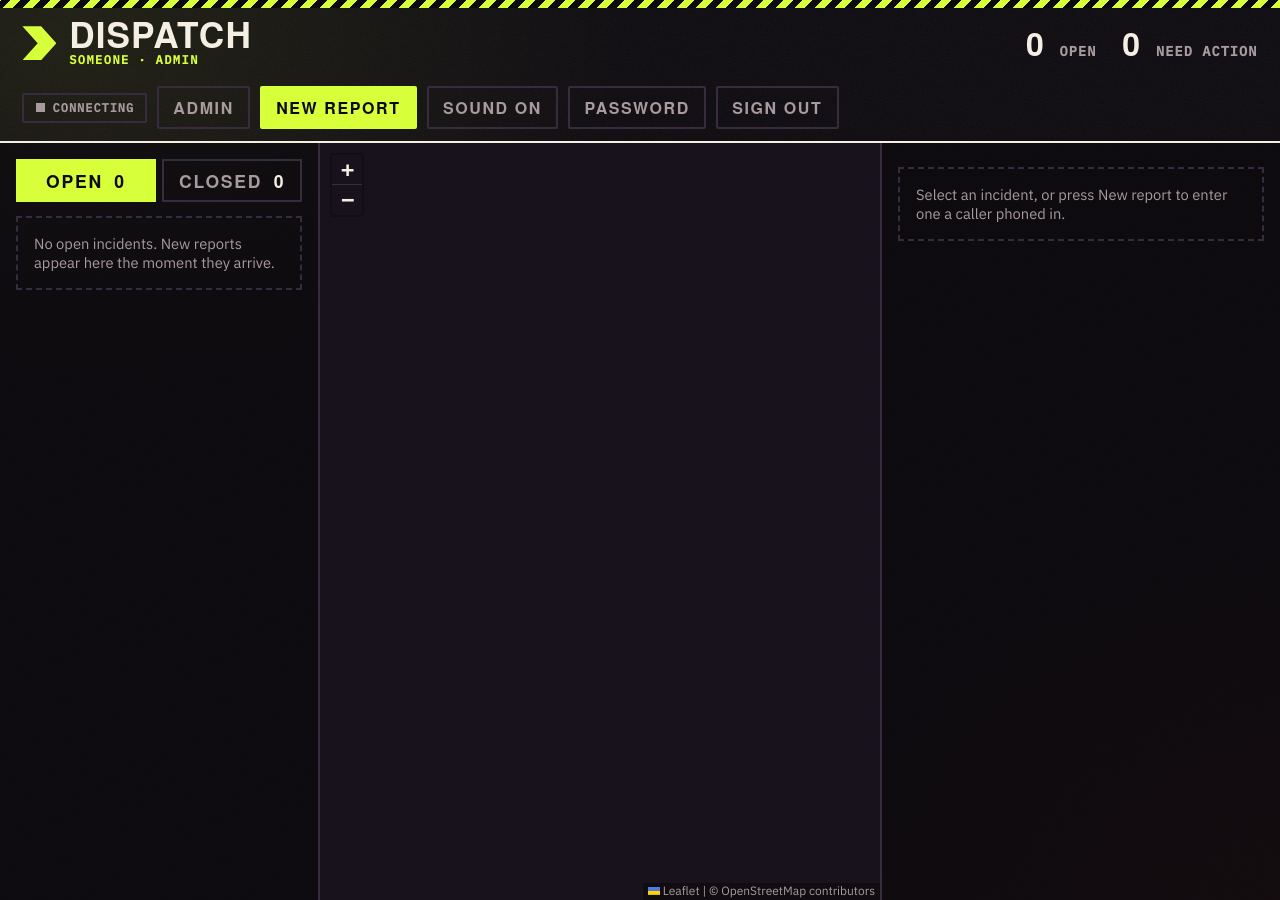
Test: summary › asks for the period the administrator chooses
The image size is (1280, 900).
Later steps or results of the test are not shown.
Click the button "Admin" at (204, 108), box [157,86,250,130]
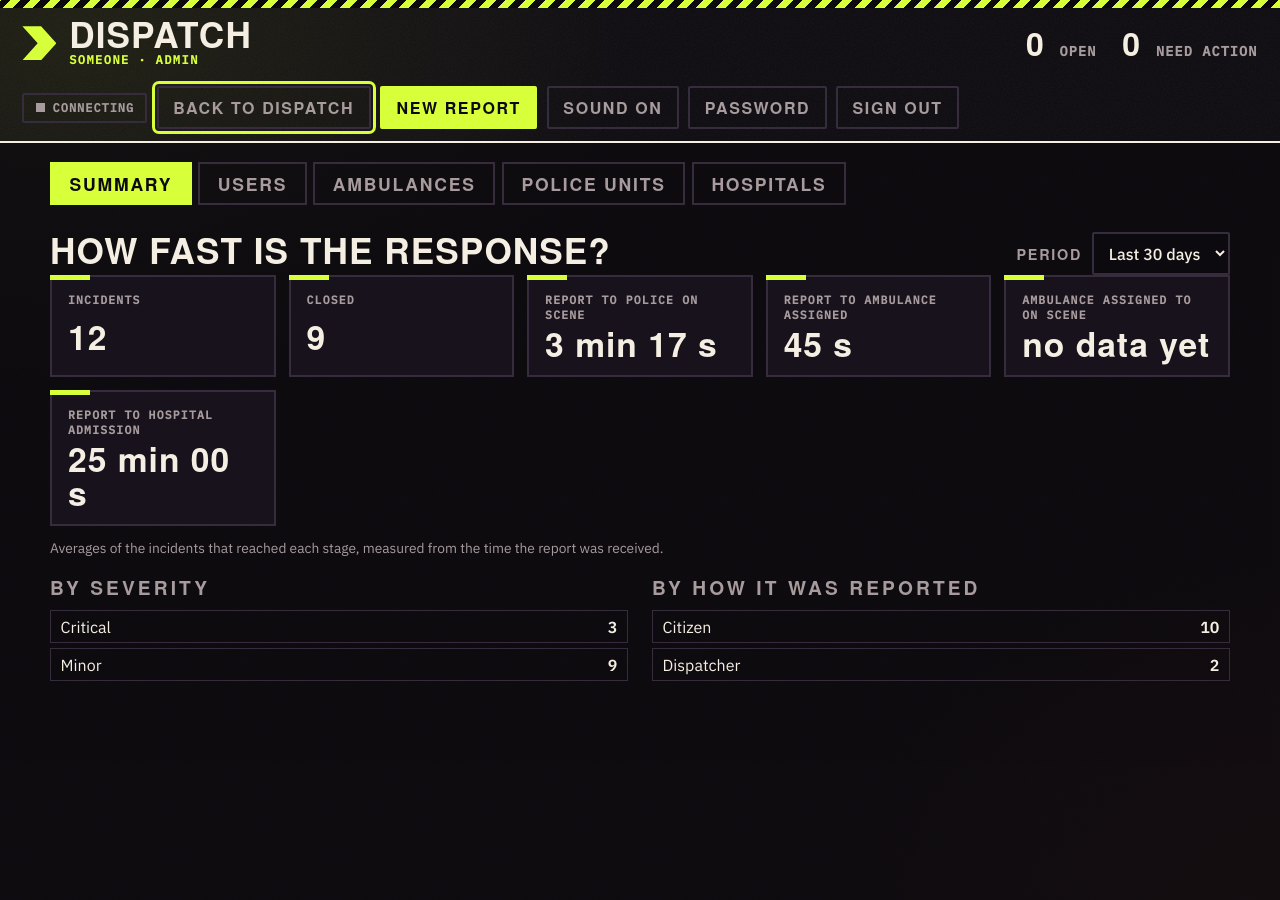
Now the text "Report to police on scene" is shown, box [545,292,698,322]
